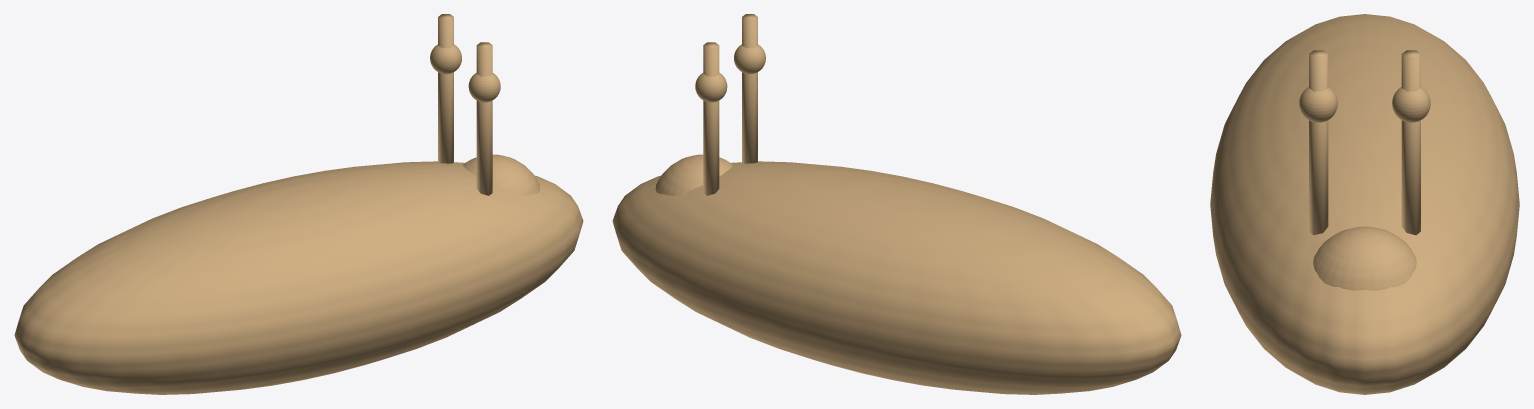
File: tar_slug_00.glb
3 renders of one model, left to right at view 1: azimuth 30°, elevation 25°; view 2: azimuth 150°, elevation 25°; view 3: azimuth 270°, elevation 25°, orthographic. The views are drawn at different scales.
Parts seen in each view (by area): view 1: tar_slug_00; view 2: tar_slug_00; view 3: tar_slug_00.
Boxes of the visible parts, x1,y1,x2,y2 form: tar_slug_00: [14, 14, 583, 394]; tar_slug_00: [612, 14, 1181, 394]; tar_slug_00: [1210, 14, 1519, 394].
Bounding box in the file's own units: 3.98 × 1.98 × 1.6.
